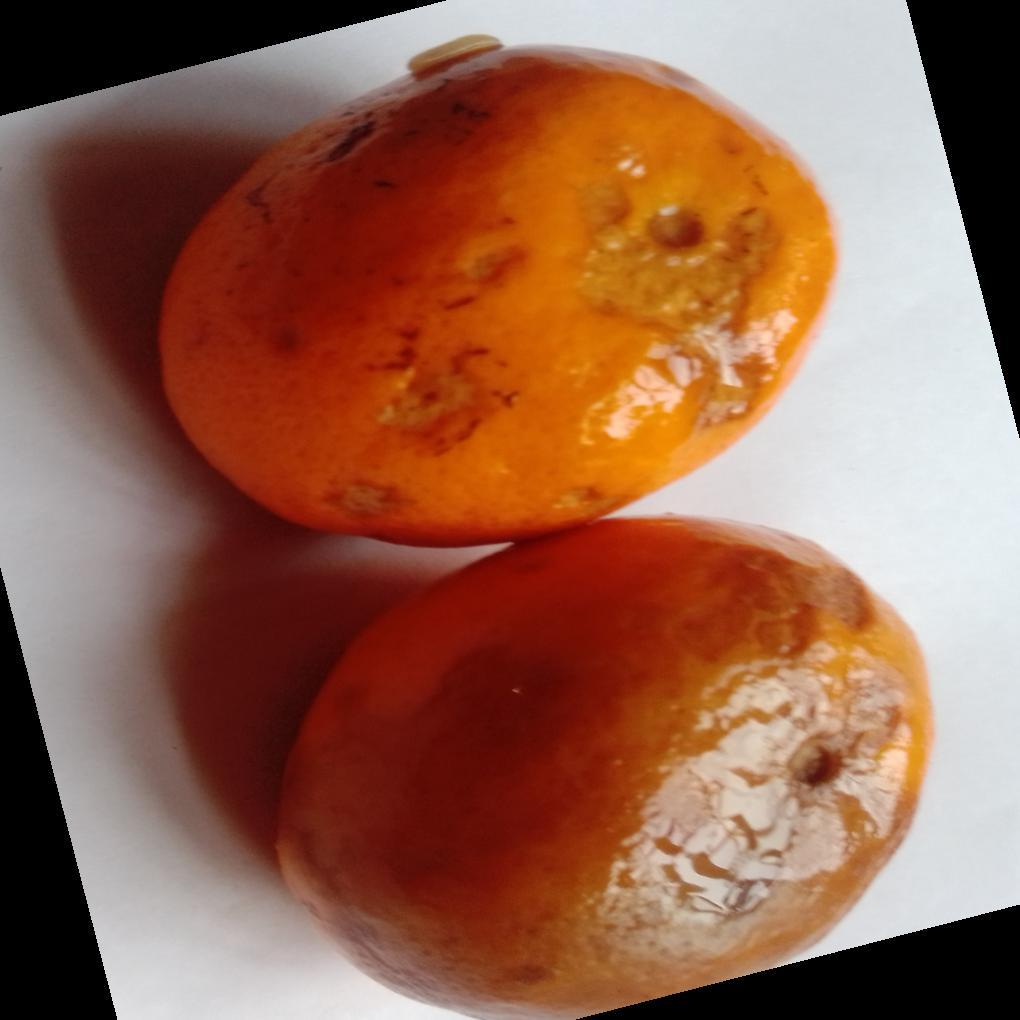FreshOrange: (156, 34, 937, 1020)
